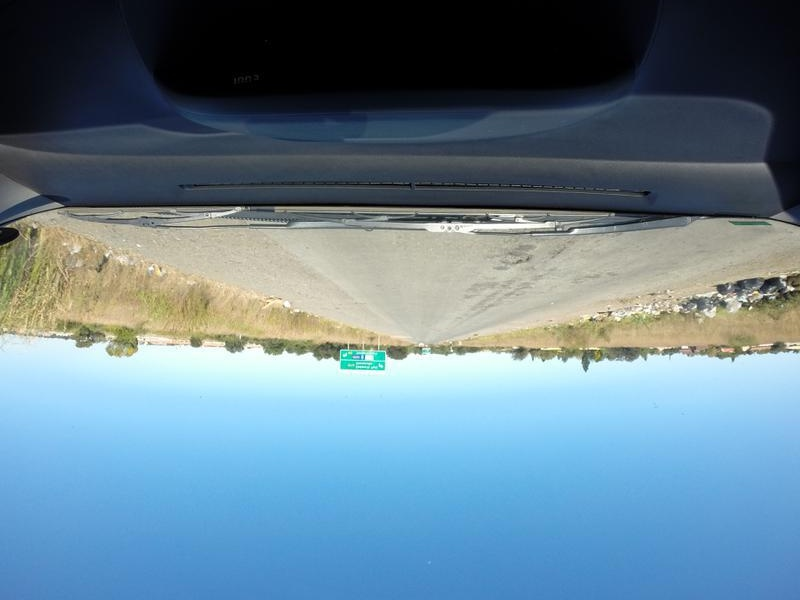pothole: (497, 244, 543, 276)
